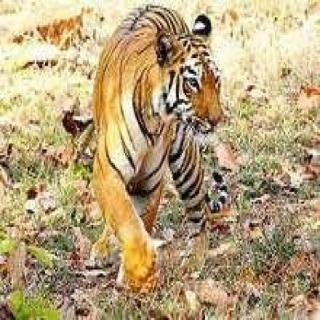Tiger: (82, 0, 237, 295)
